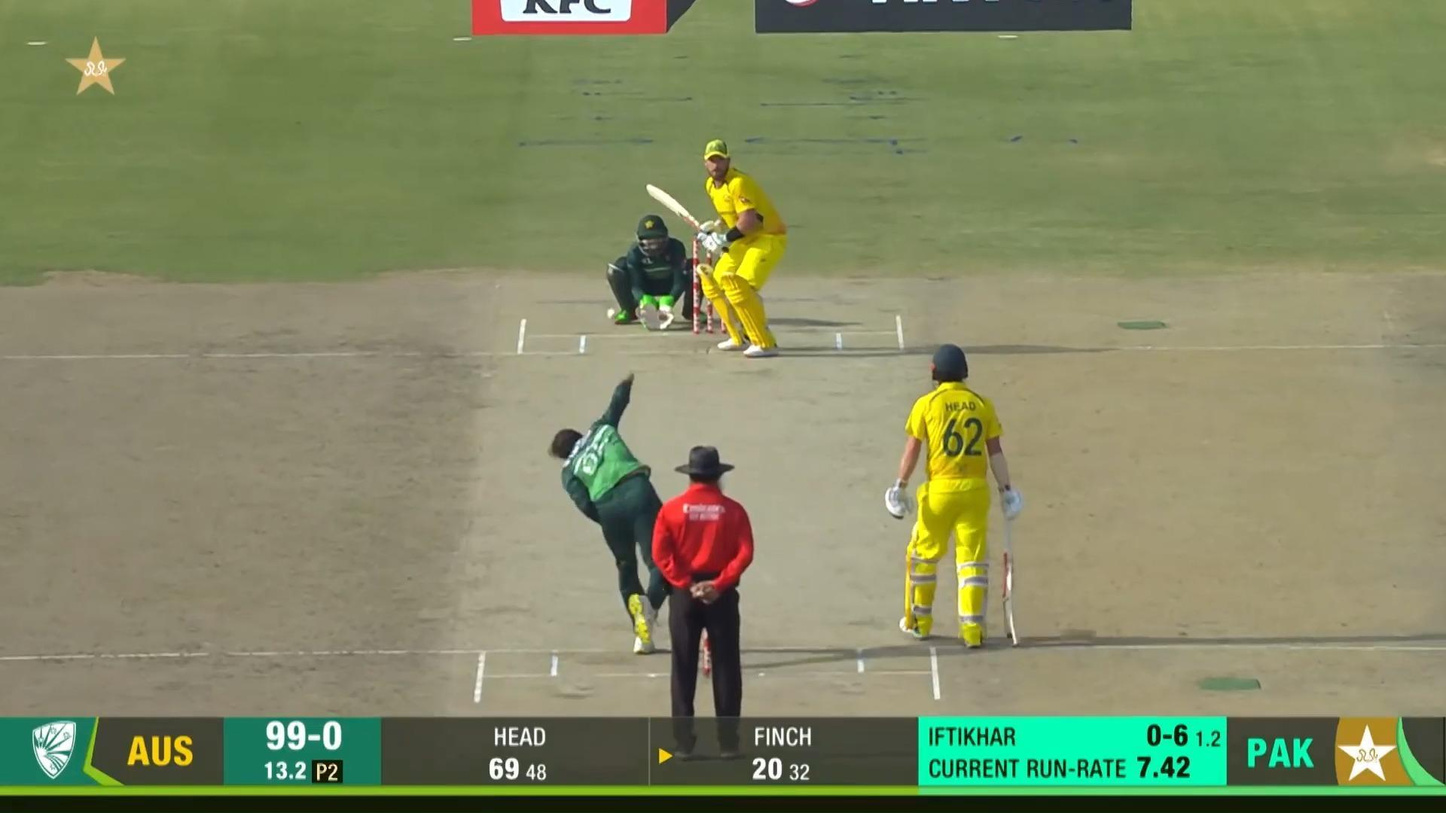BM 1: (647, 138, 790, 359)
BO: (548, 370, 665, 657)
